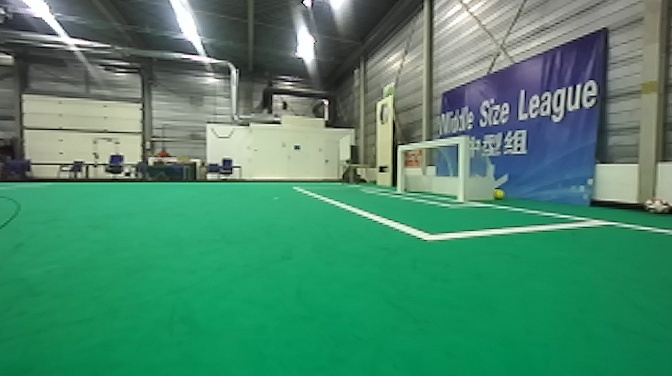ball: (643, 193, 669, 219), (488, 183, 512, 199)
goalpost: (450, 132, 476, 204), (392, 142, 412, 201)
